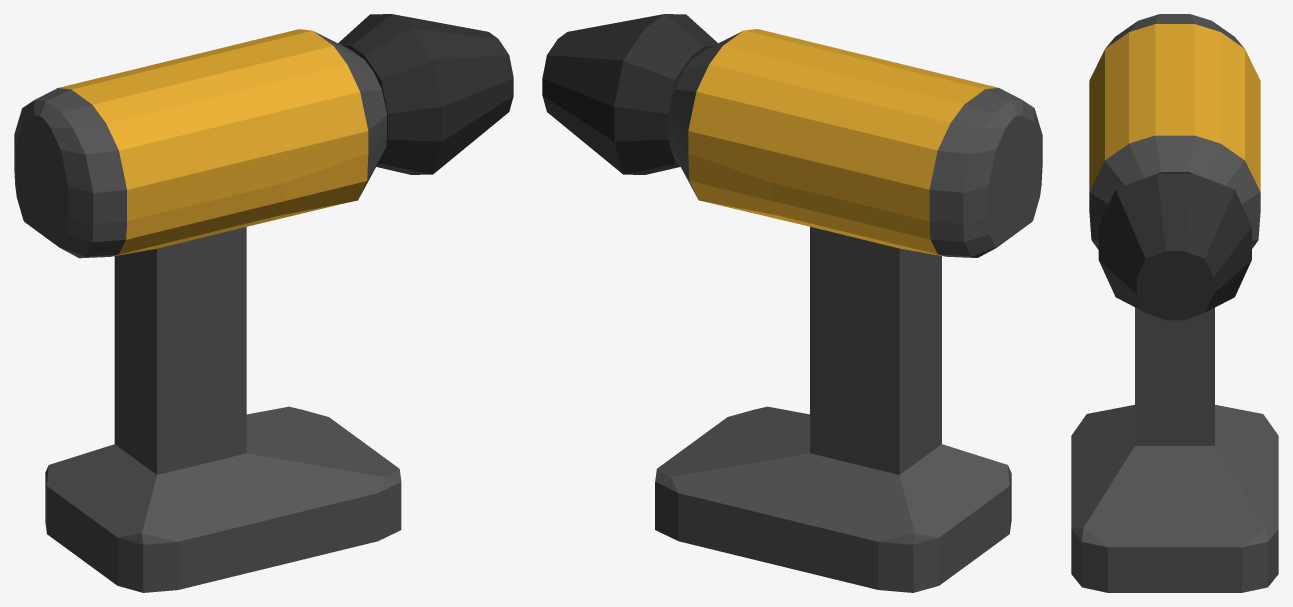
The picture shows the model from 3 angles, left to right: view 1: azimuth 30°, elevation 25°; view 2: azimuth 150°, elevation 25°; view 3: azimuth 270°, elevation 25°; orthographic projection. The views are drawn at different scales.
Visible parts, largest first — view 1: F-43; view 2: F-43; view 3: F-43.
Boxes of the visible parts, x1,y1,x2,y2 form: F-43: (14, 14, 513, 592); F-43: (542, 14, 1042, 592); F-43: (1071, 14, 1278, 592).
Bounding box in the file's own units: 58.3 × 57.1 × 24.5.
